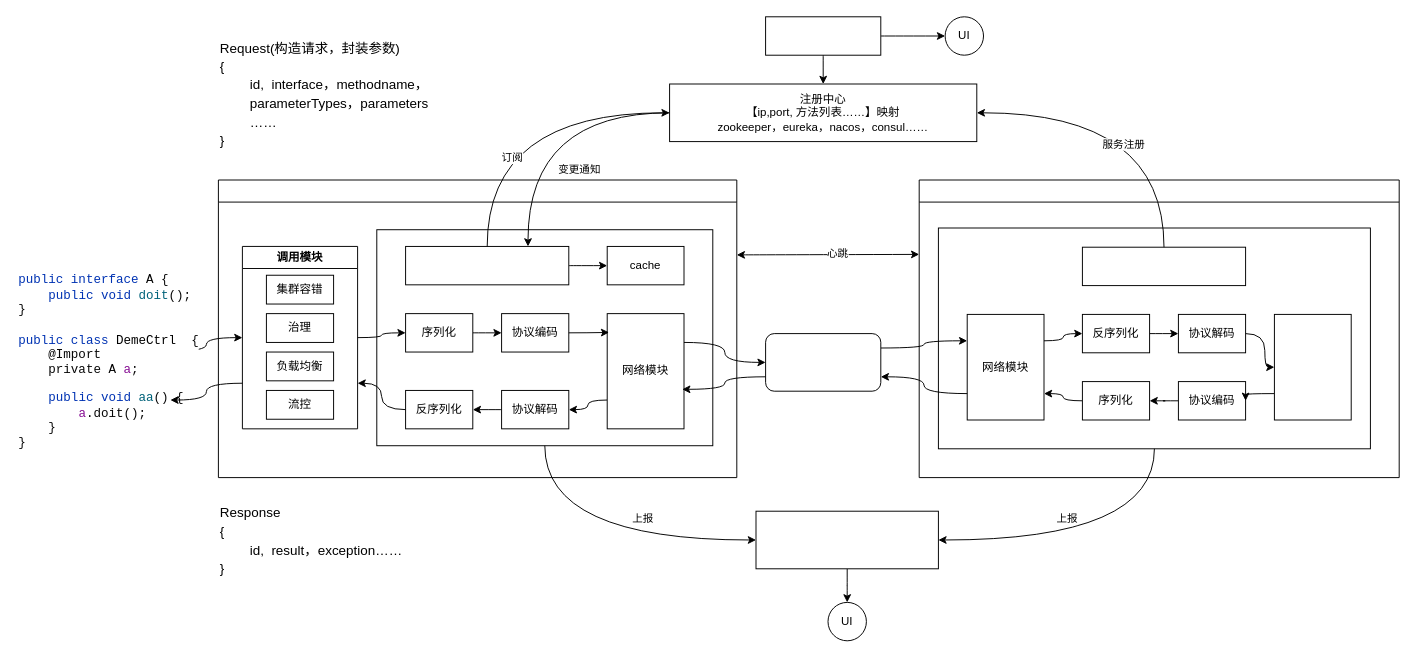
Image size: 1416x658. Some labels were removed from this diagram. The centre of each missing label's shape, as x and y in pixels:
"monitor" belongs at pixel 846 539.
"后台管理程序（dubbo-admin）" belongs at pixel 823 35.
"接口服务发现" belongs at pixel 487 265.
"接口服务注册" belongs at pixel 1163 266.
"服务模块" belongs at pixel 1312 366.
"网络传输 00101010101" belongs at pixel 823 362.
